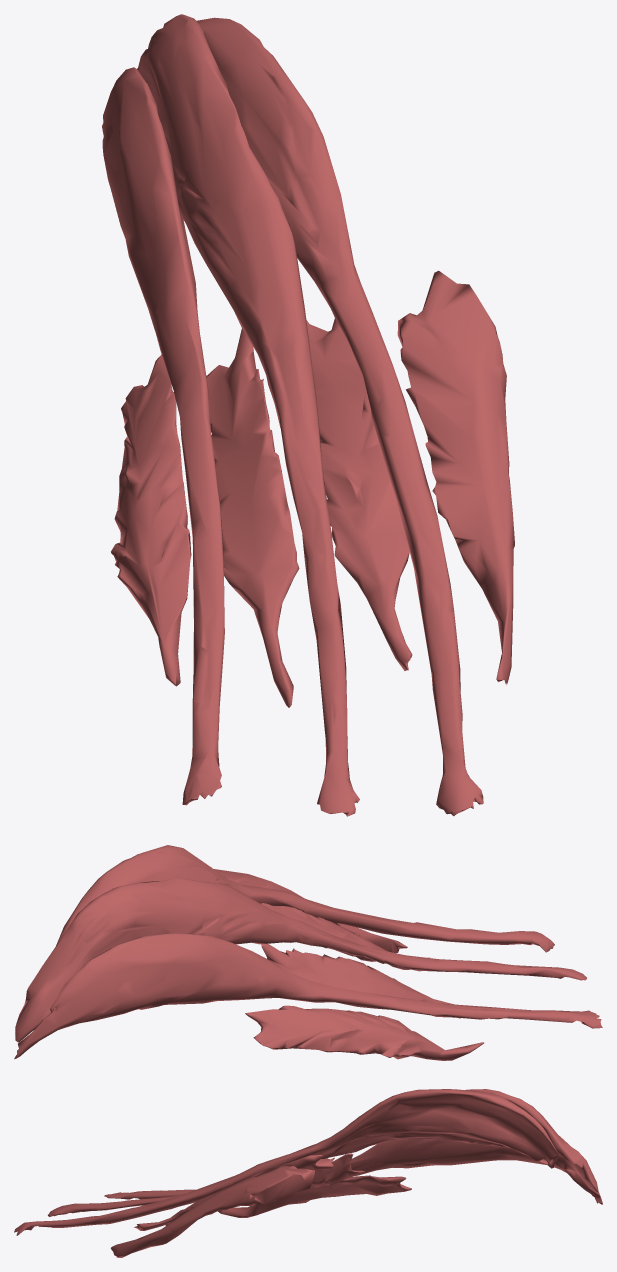
File: completion3-foot-right.glb
3 renders of one model, top to bottom at view 1: azimuth 30°, elevation 25°; view 2: azimuth 150°, elevation 25°; view 3: azimuth 270°, elevation 25°, orthographic. The views are drawn at different scales.
Visible parts, largest first — view 1: zanatomy_extensor-digitorum-brevis-r, zanatomy_dorsal-interossei-foot-r; view 2: zanatomy_extensor-digitorum-brevis-r, zanatomy_dorsal-interossei-foot-r; view 3: zanatomy_extensor-digitorum-brevis-r, zanatomy_dorsal-interossei-foot-r.
Boxes of the visible parts, <box> form: zanatomy_extensor-digitorum-brevis-r: <box>102,14,483,816</box>; zanatomy_dorsal-interossei-foot-r: <box>111,270,514,707</box>; zanatomy_extensor-digitorum-brevis-r: <box>14,845,602,1059</box>; zanatomy_dorsal-interossei-foot-r: <box>213,869,483,1060</box>; zanatomy_extensor-digitorum-brevis-r: <box>14,1089,602,1235</box>; zanatomy_dorsal-interossei-foot-r: <box>110,1153,411,1257</box>.
Bounding box in the file's own units: 0.0685 × 0.0579 × 0.1487.
